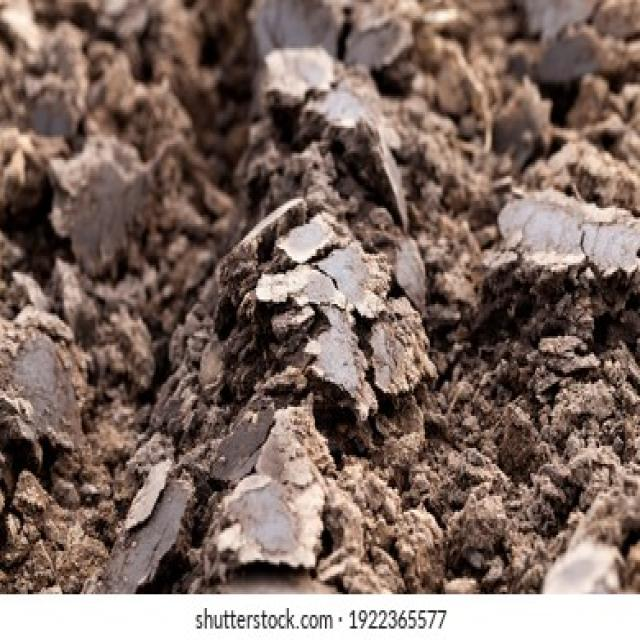Clay Soil: (18, 42, 606, 526)
